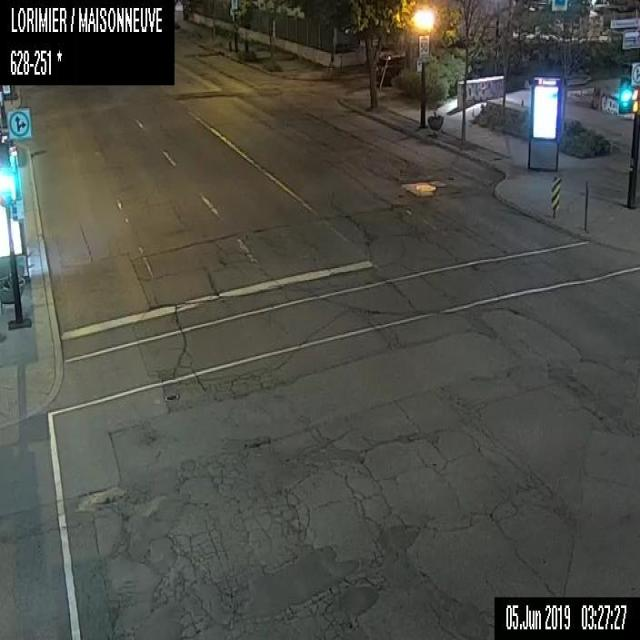vehicle: (375, 52, 408, 84)
